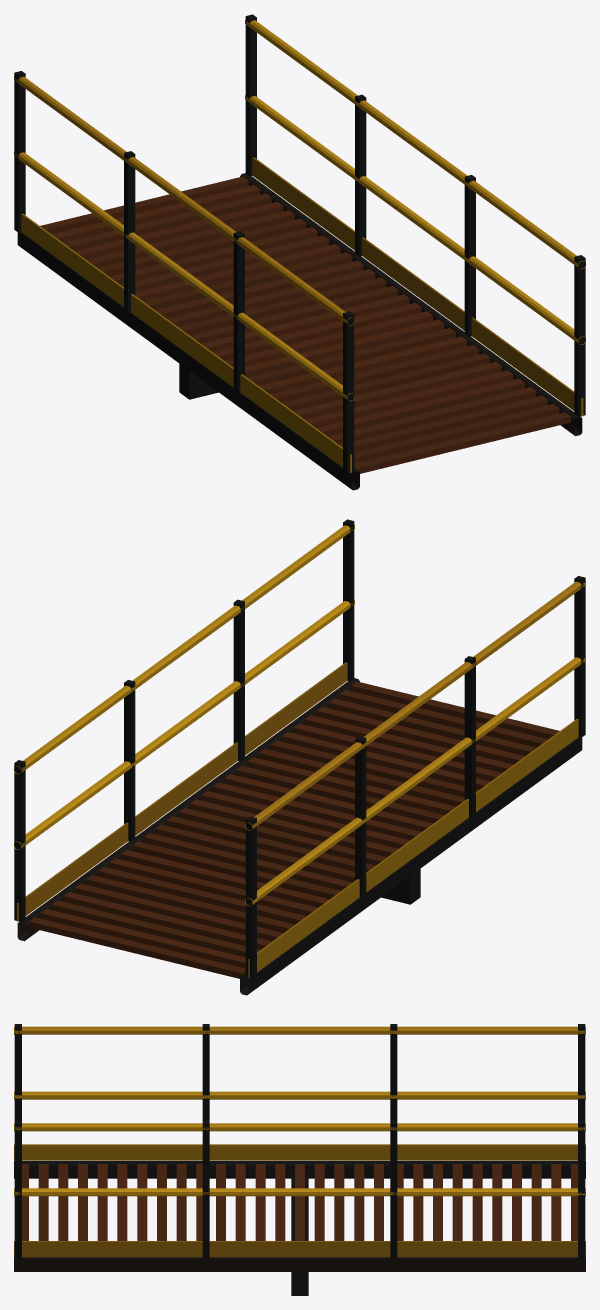
The model's file is kit_catwalk.glb.
3 renders of one model, top to bottom at view 1: azimuth 30°, elevation 25°; view 2: azimuth 150°, elevation 25°; view 3: azimuth 270°, elevation 25°, orthographic. The views are drawn at different scales.
Parts seen in each view (by area): view 1: Mesh; view 2: Mesh; view 3: Mesh.
Boxes of the visible parts, x1=… form: Mesh: x1=14, y1=14, x2=585, y2=490; Mesh: x1=14, y1=519, x2=585, y2=995; Mesh: x1=14, y1=1024, x2=585, y2=1295.
Bounding box in the file's own units: 1.65 × 1.34 × 4.
